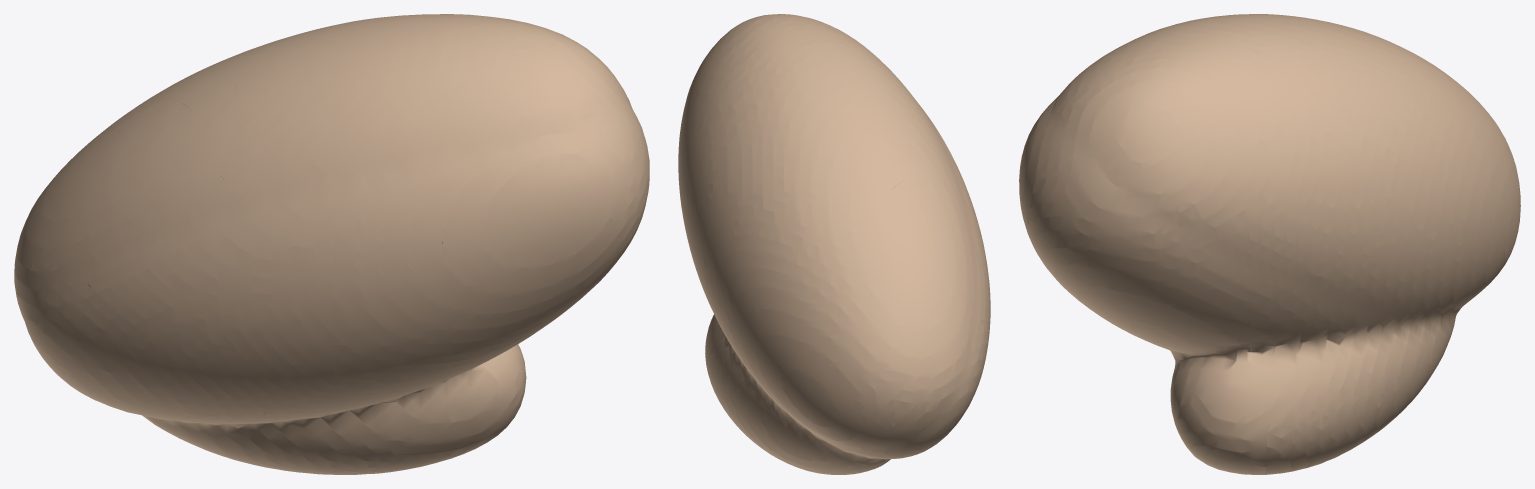
Rendered from camille-left.gltf.
The picture shows the model from 3 angles, left to right: view 1: azimuth 30°, elevation 25°; view 2: azimuth 150°, elevation 25°; view 3: azimuth 270°, elevation 25°; orthographic projection. The views are drawn at different scales.
Parts seen in each view (by area): view 1: Layer_6; view 2: Layer_6; view 3: Layer_6.
Part boxes in pixels (bbox=[...]): Layer_6: bbox=[14, 14, 649, 474]; Layer_6: bbox=[678, 14, 990, 474]; Layer_6: bbox=[1019, 14, 1520, 474].
Size of the model in its own units: 29.3 by 27.94 by 28.73.
Materials: 1 (1 with a texture image).
